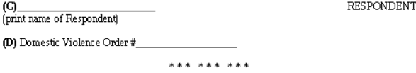textline: (16, 4, 157, 13), (135, 38, 237, 49)
